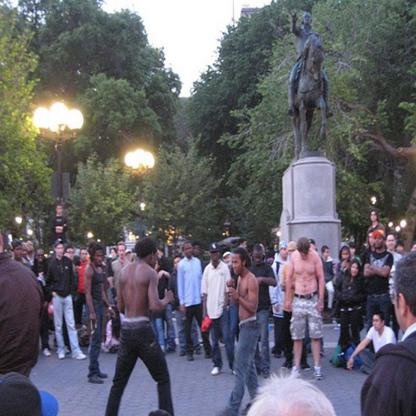face: (232, 254, 242, 276), (373, 315, 383, 331), (375, 234, 383, 249), (388, 236, 396, 250), (152, 250, 158, 268), (351, 263, 359, 276), (96, 251, 103, 265), (255, 252, 262, 266), (212, 249, 220, 261), (175, 259, 182, 272), (185, 244, 192, 257), (369, 233, 376, 246), (308, 243, 316, 254), (16, 246, 23, 258), (57, 244, 64, 256), (119, 245, 125, 259), (304, 15, 312, 25), (67, 249, 74, 260), (282, 247, 289, 258), (343, 249, 350, 260), (261, 246, 266, 261), (22, 245, 28, 257), (366, 265, 372, 277), (289, 247, 296, 257), (225, 255, 231, 266), (56, 226, 64, 234), (301, 251, 308, 260), (371, 212, 378, 221), (28, 242, 34, 252), (194, 246, 200, 256), (82, 250, 87, 261), (8, 244, 14, 253), (351, 246, 357, 255), (39, 252, 44, 262), (89, 245, 94, 255), (398, 245, 404, 253), (243, 241, 248, 250), (58, 206, 63, 214), (111, 250, 116, 258), (158, 250, 162, 259), (326, 249, 330, 258), (412, 245, 416, 254), (156, 262, 160, 270), (113, 290, 117, 297), (128, 253, 131, 261)
